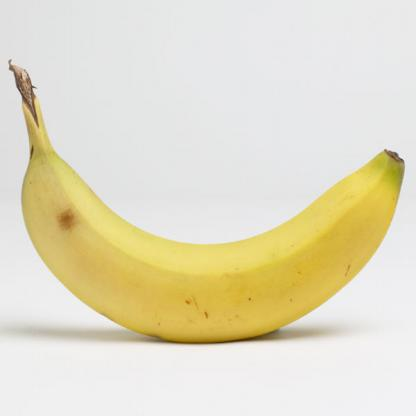banana: (25, 144, 412, 339)
